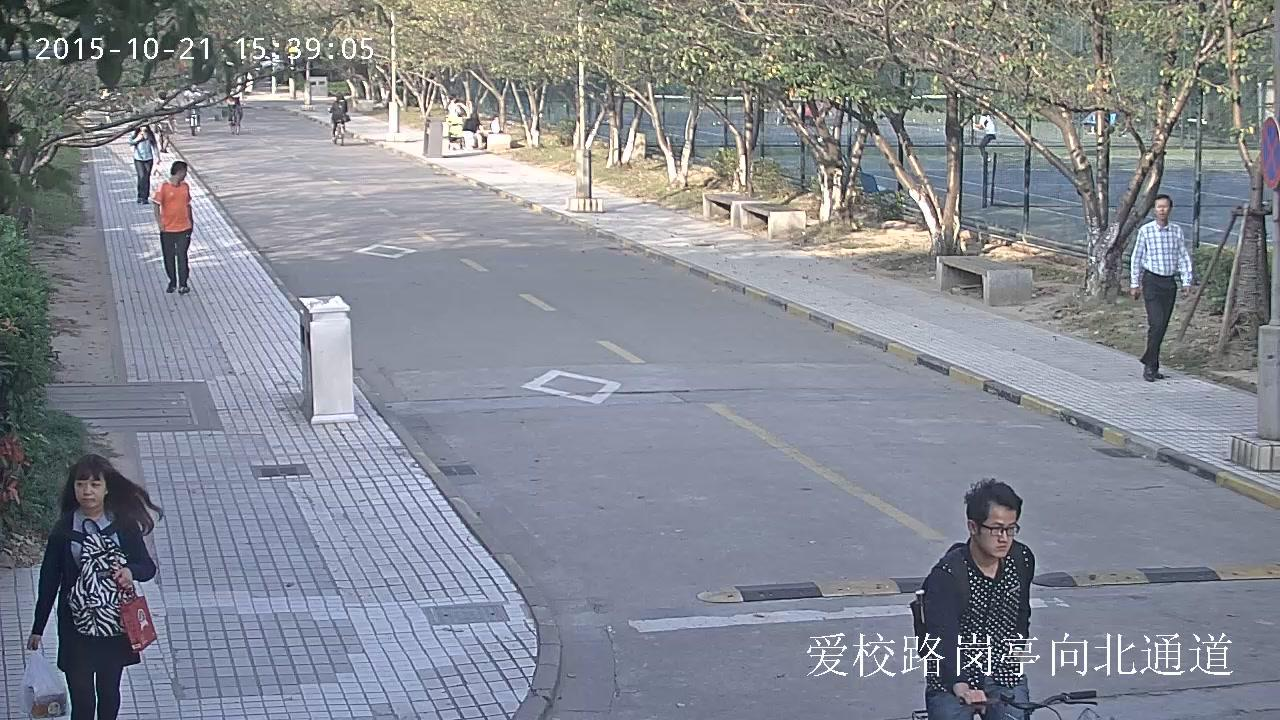face: (975, 501, 1017, 557), (74, 472, 105, 508), (1155, 197, 1171, 218), (178, 169, 186, 180), (139, 126, 146, 131), (192, 84, 196, 89), (452, 97, 456, 101)
